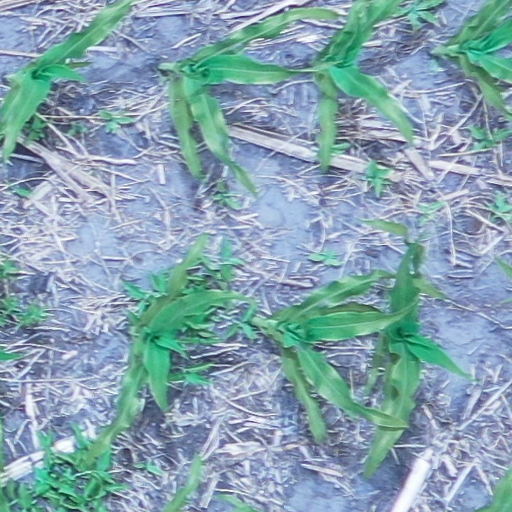planta: (79, 228, 263, 470), (155, 2, 344, 198), (243, 265, 425, 445), (360, 238, 478, 480)
